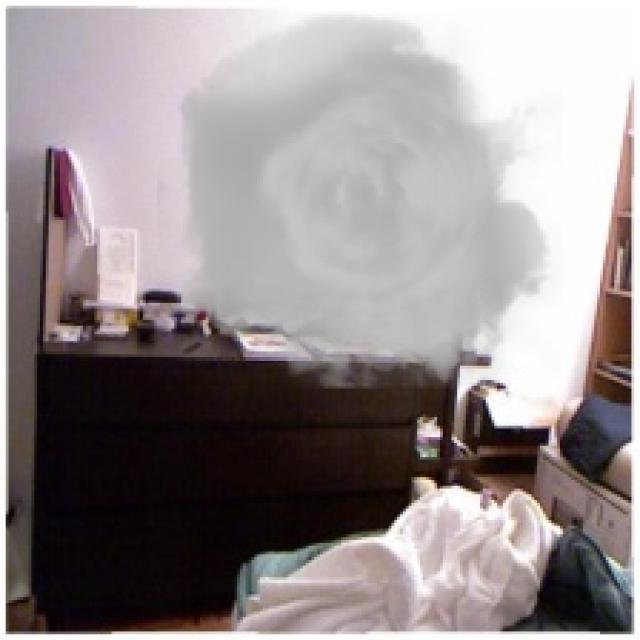Smoke: (157, 11, 563, 388)
